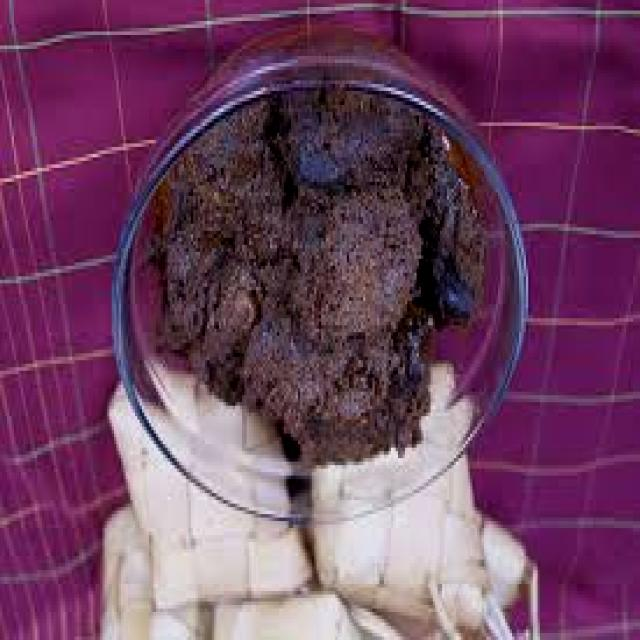rendang: (154, 84, 482, 462)
